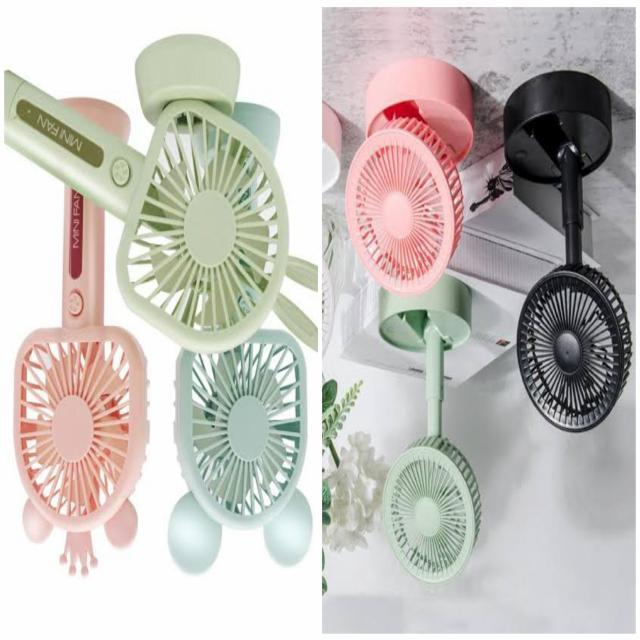fan: (5, 70, 632, 585)
